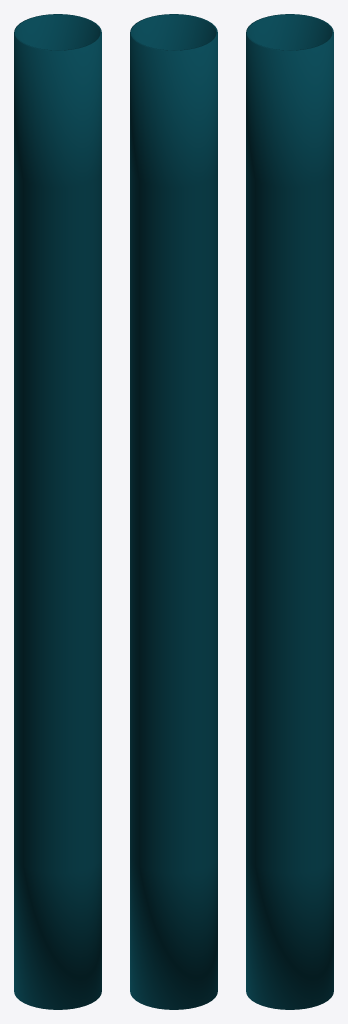
Rendered from column.dae.
The picture shows the model from 3 angles, left to right: view 1: azimuth 90°, elevation 25°; view 2: azimuth 150°, elevation 25°; view 3: azimuth 270°, elevation 25°; orthographic projection.
Visible parts, largest first — view 1: central_column; view 2: central_column; view 3: central_column.
Part boxes in pixels (x1=…): central_column: x1=14, y1=14, x2=101, y2=1009; central_column: x1=130, y1=14, x2=217, y2=1009; central_column: x1=246, y1=14, x2=333, y2=1009.
Bounding box in the file's own units: 0.05 × 0.05 × 0.602.
